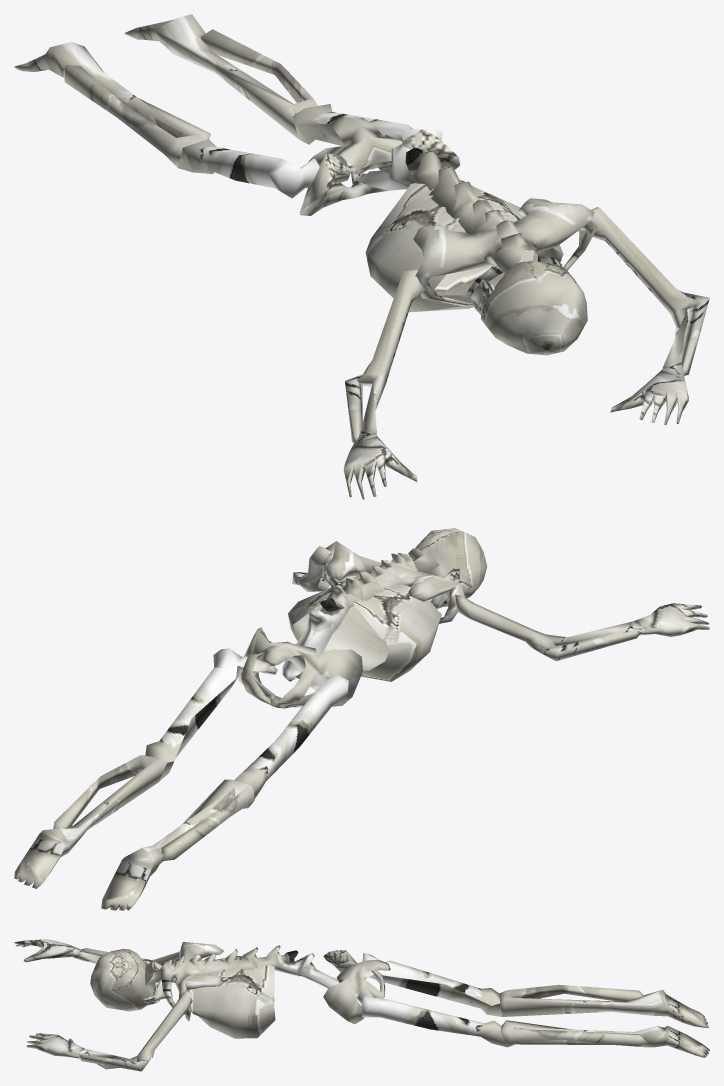
Rendered from Janitor.fbx.
The picture shows the model from 3 angles, top to bottom: view 1: azimuth 30°, elevation 25°; view 2: azimuth 150°, elevation 25°; view 3: azimuth 270°, elevation 25°; orthographic projection. The views are drawn at different scales.
Visible parts, largest first — view 1: skeleton; view 2: skeleton; view 3: skeleton.
Part boxes in pixels (bbox=[...]): skeleton: bbox=[14, 14, 709, 499]; skeleton: bbox=[14, 528, 709, 910]; skeleton: bbox=[14, 939, 709, 1071].
Size of the model in its own units: 105 by 33.94 by 227.
